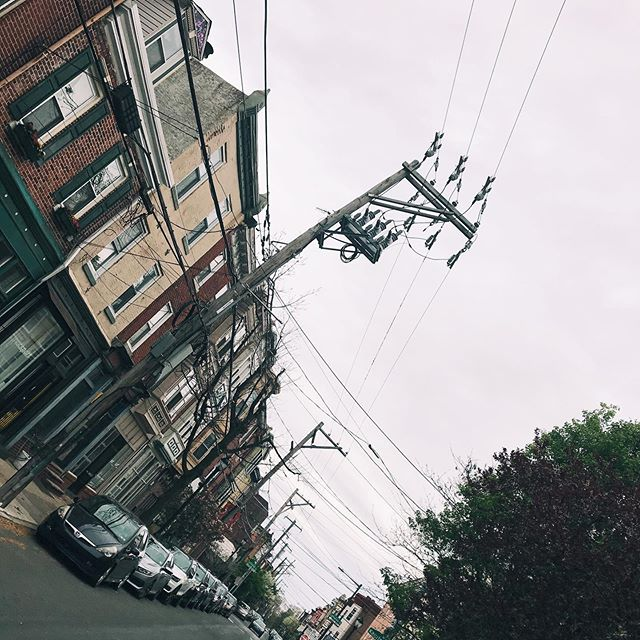building: (12, 128, 264, 399), (1, 6, 277, 252)
car: (45, 487, 136, 591), (139, 523, 171, 608)
power pole: (24, 161, 496, 517)
sky: (289, 1, 640, 587)
tree: (430, 397, 640, 640)
